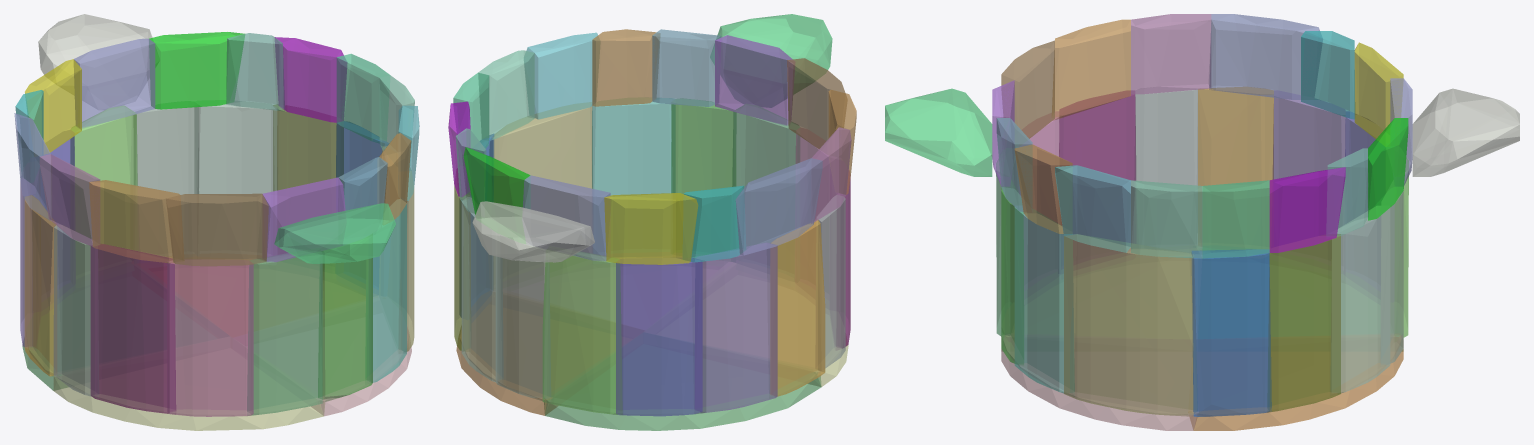
File: pot-ww_dec.dae
The picture shows the model from 3 angles, left to right: view 1: azimuth 30°, elevation 25°; view 2: azimuth 150°, elevation 25°; view 3: azimuth 270°, elevation 25°; orthographic projection. The views are drawn at different scales.
Parts seen in each view (by area): view 1: Shape_IndexedFaceSet_007, Shape_IndexedFaceSet_009, Shape_IndexedFaceSet_002, Shape_IndexedFaceSet_018, Shape_IndexedFaceSet_008, Shape_IndexedFaceSet_003, Shape_IndexedFaceSet_005, Shape_IndexedFaceSet_004, Shape_IndexedFaceSet_017, Shape_IndexedFaceSet_014, Shape_IndexedFaceSet_015, Shape_IndexedFaceSet (+25 smaller); view 2: Shape_IndexedFaceSet_013, Shape_IndexedFaceSet_003, Shape_IndexedFaceSet_012, Shape_IndexedFaceSet_014, Shape_IndexedFaceSet_016, Shape_IndexedFaceSet_006, Shape_IndexedFaceSet_005, Shape_IndexedFaceSet_002, Shape_IndexedFaceSet_011, Shape_IndexedFaceSet_008, Shape_IndexedFaceSet_015, Shape_IndexedFaceSet_017 (+25 smaller); view 3: Shape_IndexedFaceSet_006, Shape_IndexedFaceSet_019, Shape_IndexedFaceSet_005, Shape_IndexedFaceSet_020, Shape_IndexedFaceSet_011, Shape_IndexedFaceSet_004, Shape_IndexedFaceSet_003, Shape_IndexedFaceSet_002, Shape_IndexedFaceSet_009, Shape_IndexedFaceSet_018, Shape_IndexedFaceSet_010, Shape_IndexedFaceSet_016 (+25 smaller).
Part boxes in pixels (x1,y1,x2,y2): Shape_IndexedFaceSet_007: [167, 260, 253, 416]; Shape_IndexedFaceSet_009: [90, 244, 175, 413]; Shape_IndexedFaceSet_002: [53, 348, 325, 430]; Shape_IndexedFaceSet_018: [194, 100, 277, 255]; Shape_IndexedFaceSet_008: [247, 251, 322, 415]; Shape_IndexedFaceSet_003: [22, 272, 217, 390]; Shape_IndexedFaceSet_005: [149, 264, 365, 336]; Shape_IndexedFaceSet_004: [247, 313, 411, 416]; Shape_IndexedFaceSet_017: [134, 101, 198, 256]; Shape_IndexedFaceSet_014: [70, 105, 137, 279]; Shape_IndexedFaceSet_015: [318, 236, 372, 401]; Shape_IndexedFaceSet: [38, 14, 159, 109]; Shape_IndexedFaceSet_013: [616, 258, 702, 416]; Shape_IndexedFaceSet_003: [544, 344, 821, 430]; Shape_IndexedFaceSet_012: [695, 242, 777, 413]; Shape_IndexedFaceSet_014: [542, 250, 622, 414]; Shape_IndexedFaceSet_016: [592, 98, 675, 254]; Shape_IndexedFaceSet_006: [489, 102, 592, 285]; Shape_IndexedFaceSet_005: [456, 303, 631, 415]; Shape_IndexedFaceSet_002: [656, 270, 848, 386]; Shape_IndexedFaceSet_011: [770, 220, 825, 396]; Shape_IndexedFaceSet_008: [732, 104, 799, 277]; Shape_IndexedFaceSet_015: [671, 99, 735, 254]; Shape_IndexedFaceSet_017: [495, 235, 550, 400]; Shape_IndexedFaceSet_006: [1064, 234, 1197, 416]; Shape_IndexedFaceSet_019: [1192, 249, 1271, 416]; Shape_IndexedFaceSet_005: [1188, 335, 1403, 430]; Shape_IndexedFaceSet_020: [1267, 234, 1340, 412]; Shape_IndexedFaceSet_011: [1198, 87, 1273, 248]; Shape_IndexedFaceSet_004: [1001, 335, 1198, 430]; Shape_IndexedFaceSet_003: [1199, 254, 1403, 351]; Shape_IndexedFaceSet_002: [1001, 257, 1196, 351]; Shape_IndexedFaceSet_009: [1059, 90, 1135, 269]; Shape_IndexedFaceSet_018: [1330, 206, 1390, 393]; Shape_IndexedFaceSet_010: [1134, 87, 1197, 247]; Shape_IndexedFaceSet_016: [1014, 207, 1074, 393].
Bounding box in the file's own units: 0.2554 × 0.3857 × 0.163.
